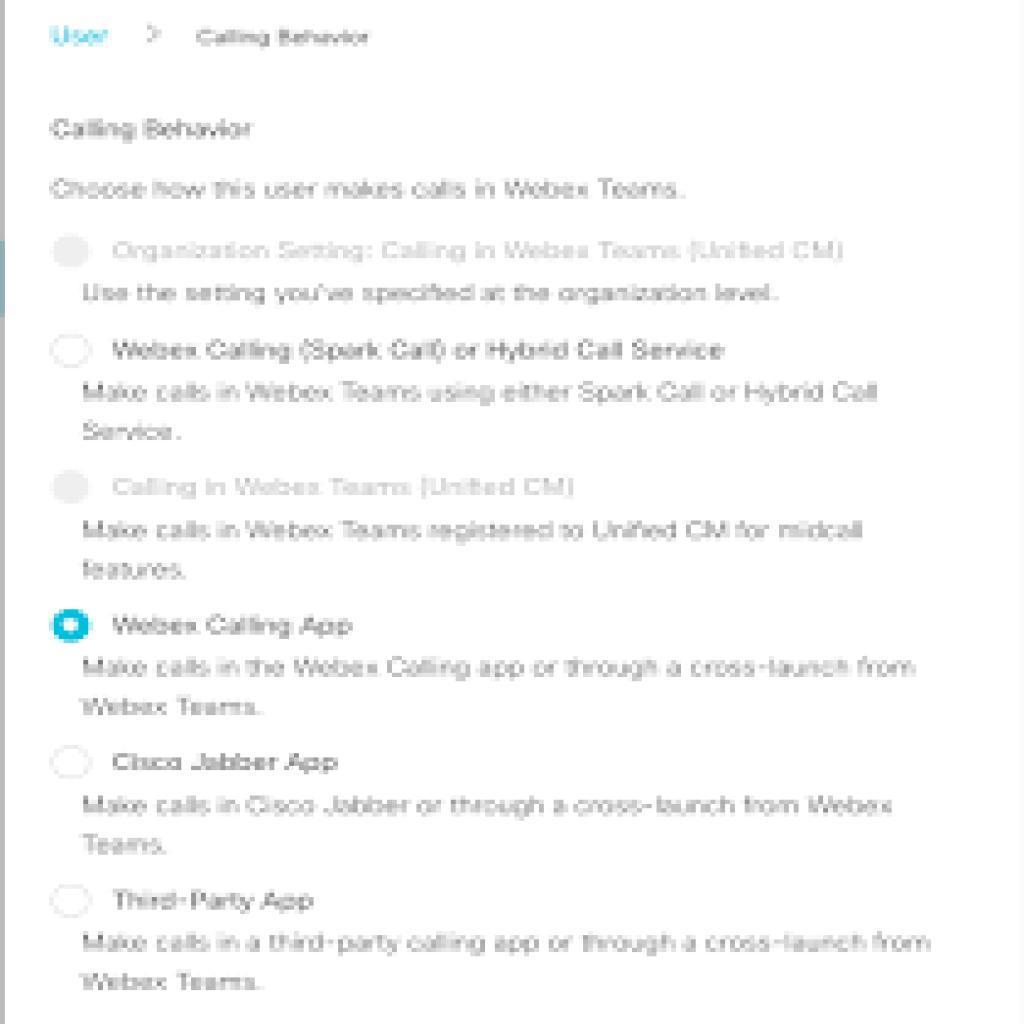radio: (50, 881, 96, 923), (47, 333, 95, 373), (49, 605, 94, 647), (49, 741, 94, 782), (51, 469, 95, 508), (51, 233, 92, 273)
